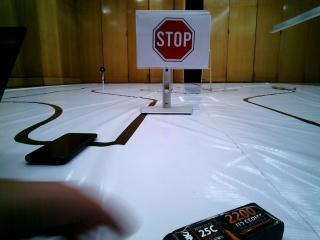stop: (139, 9, 196, 64)
